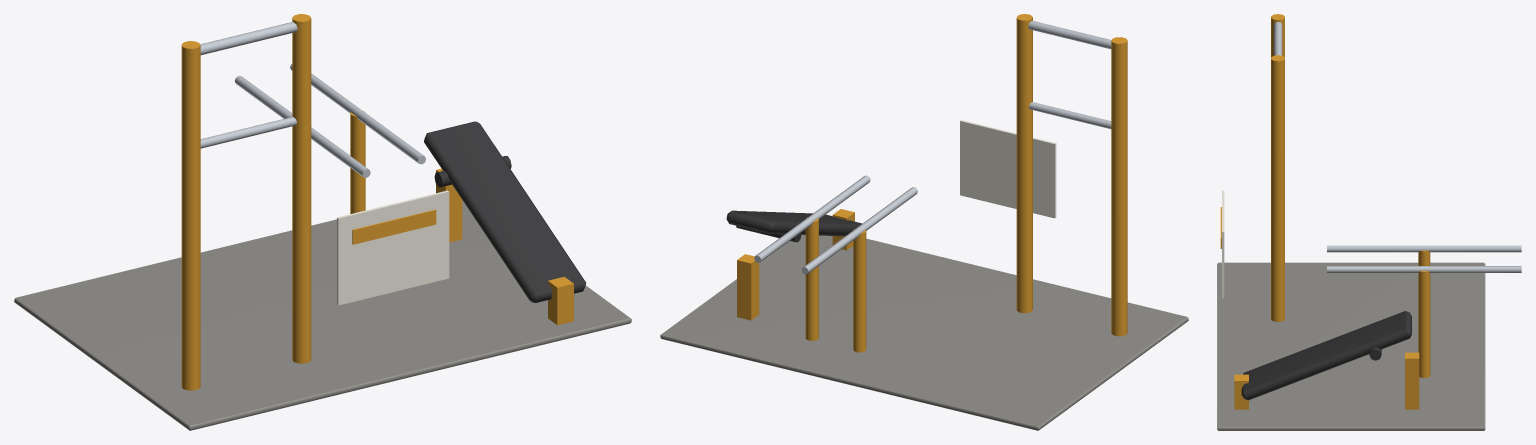
The model's file is outdoor_gym.glb.
The picture shows the model from 3 angles, left to right: view 1: azimuth 30°, elevation 25°; view 2: azimuth 150°, elevation 25°; view 3: azimuth 270°, elevation 25°; orthographic projection. The views are drawn at different scales.
Visible parts, largest first — view 1: outdoor_gym; view 2: outdoor_gym; view 3: outdoor_gym.
Part boxes in pixels (bbox=[...]): outdoor_gym: bbox=[14, 14, 631, 430]; outdoor_gym: bbox=[660, 14, 1188, 430]; outdoor_gym: bbox=[1217, 14, 1521, 430].
Bounding box in the file's own units: 3.2 × 2.4 × 2.5.
